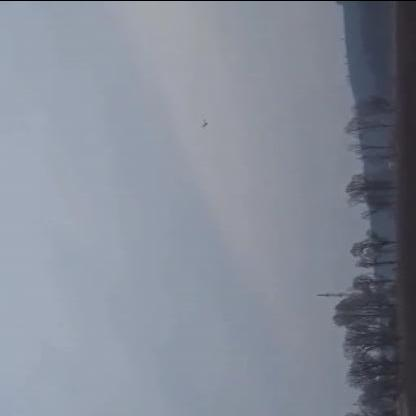plane: (198, 116, 212, 128)
